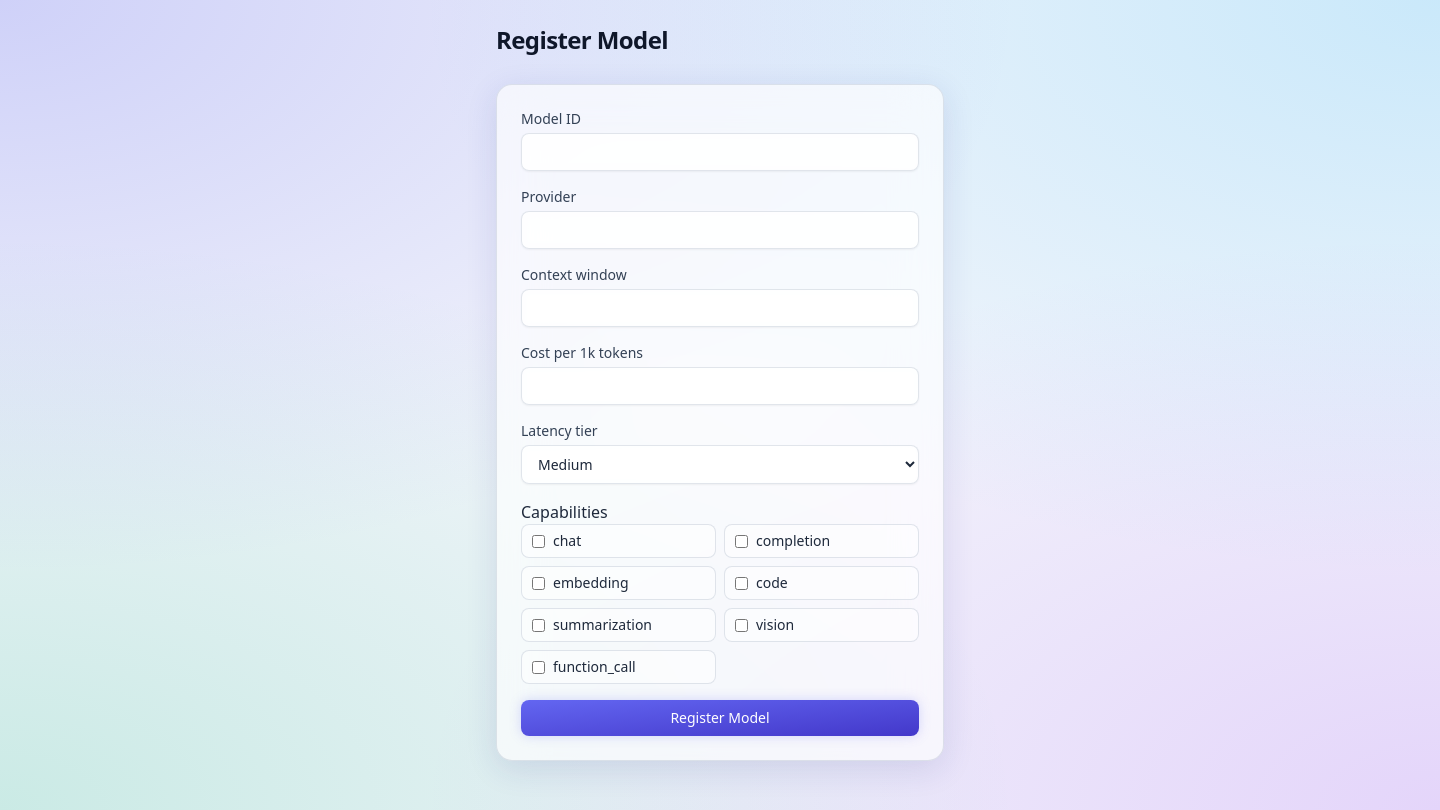
Test case: AddModelPage — AC-2 duplicate 409 error › shows 'already registered' message when server returns 409
Step 1. Type "gpt-4o" into the field labelled "Model ID" → x=720, y=152, box [521,133,919,171]
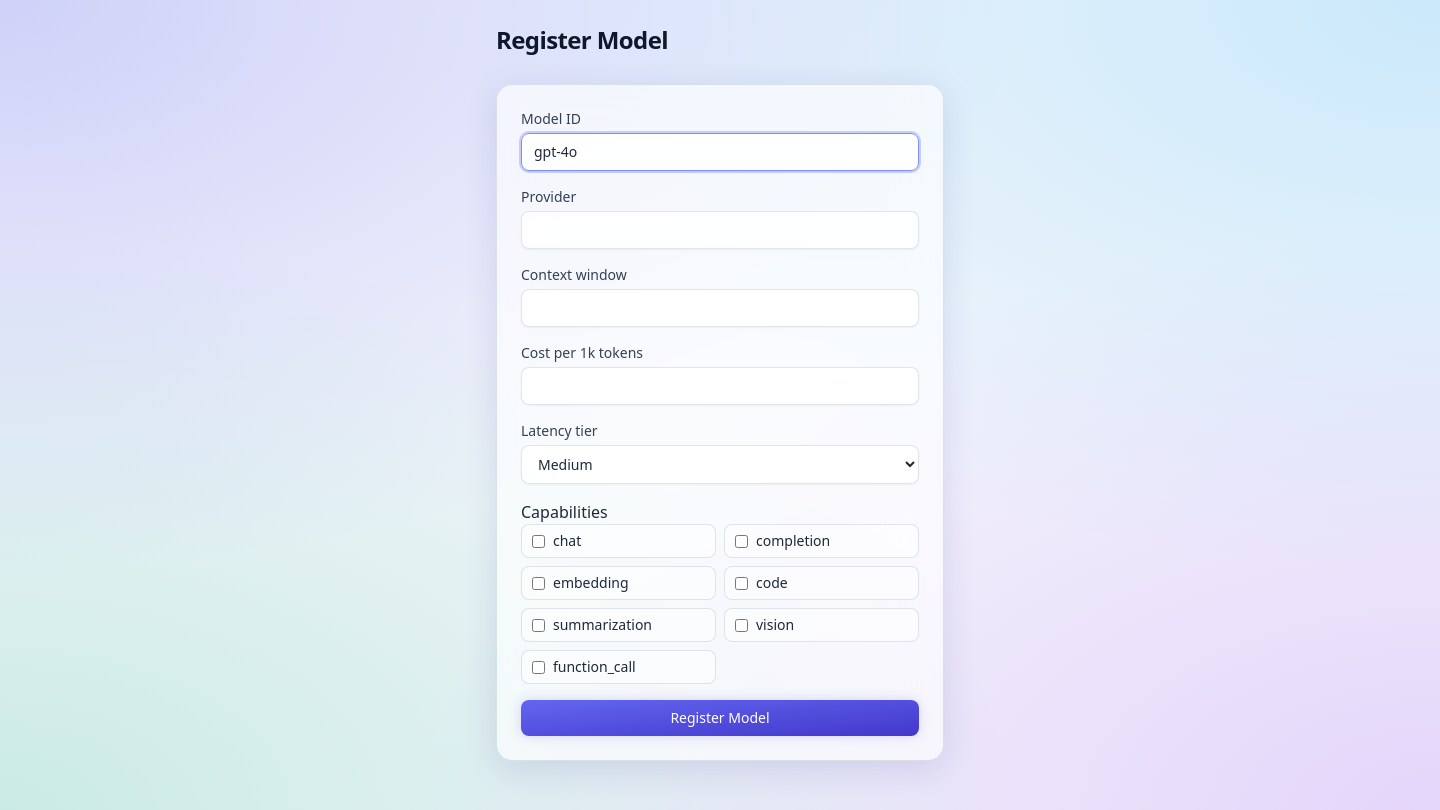
Step 2. Type "openai" into the field labelled "Provider" → x=720, y=230, box [521,211,919,249]
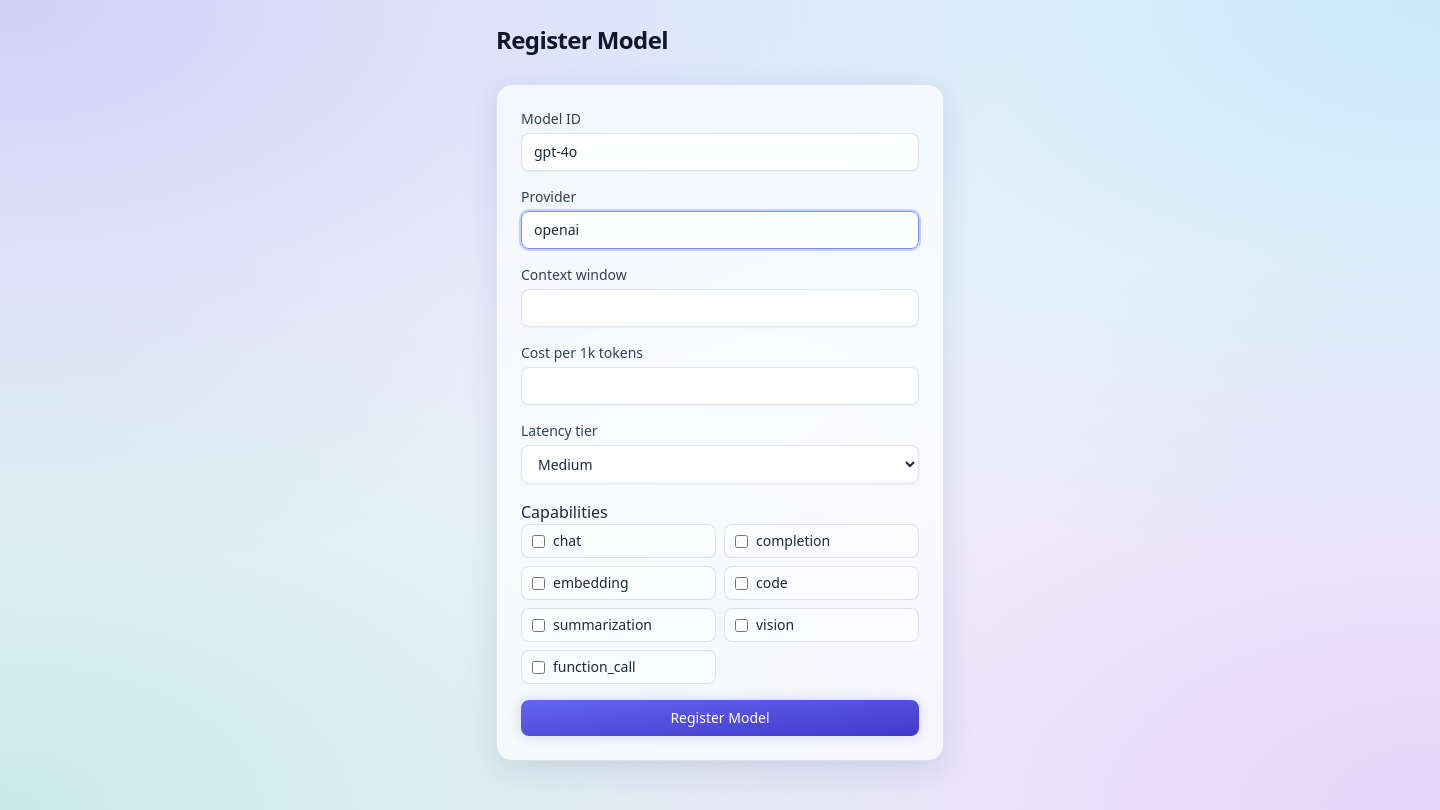
Step 3. Type "128000" into the number field labelled "Context window" → x=720, y=308, box [521,289,919,327]
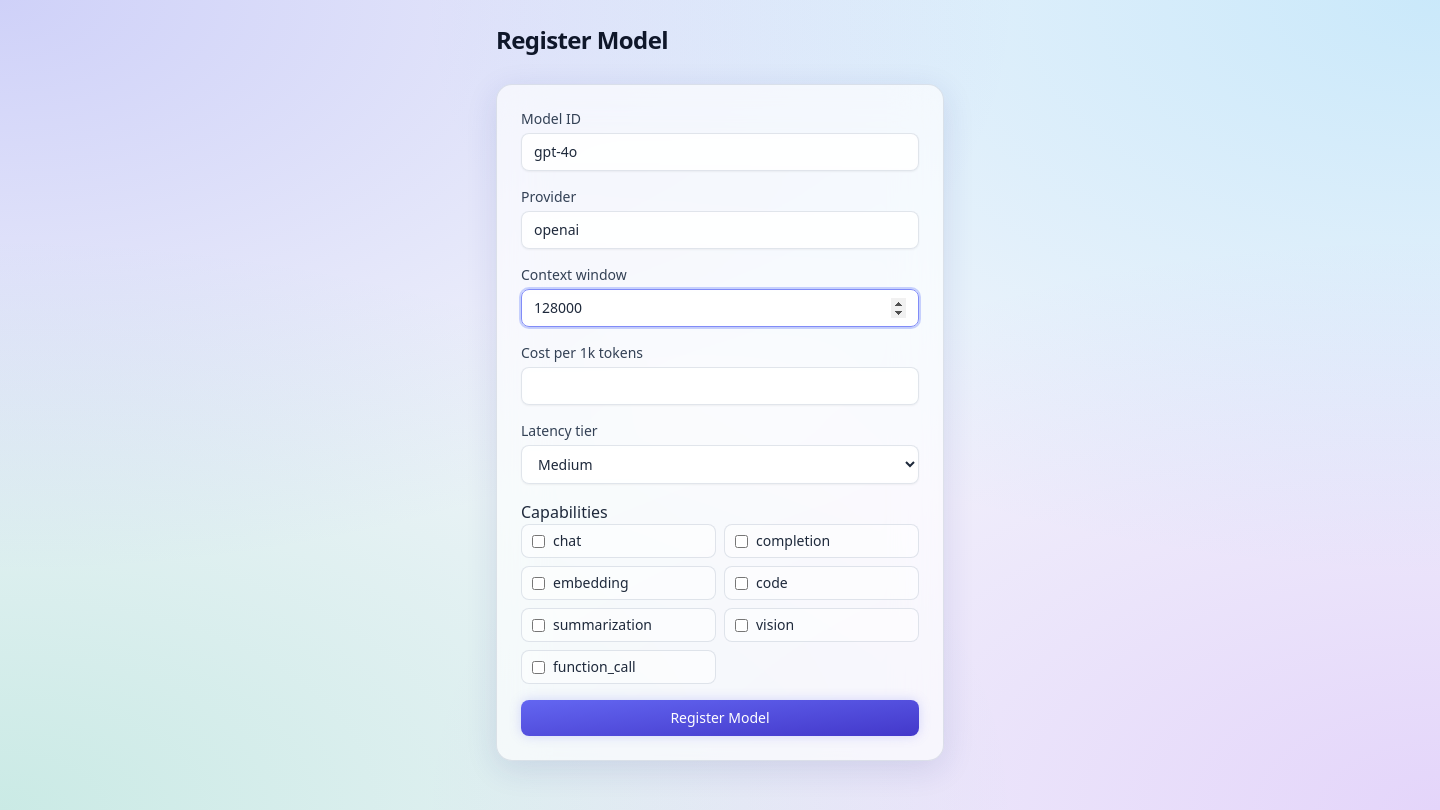
Step 4. Type "0.005" into the number field labelled "Cost per 1k tokens" → x=720, y=386, box [521,367,919,405]
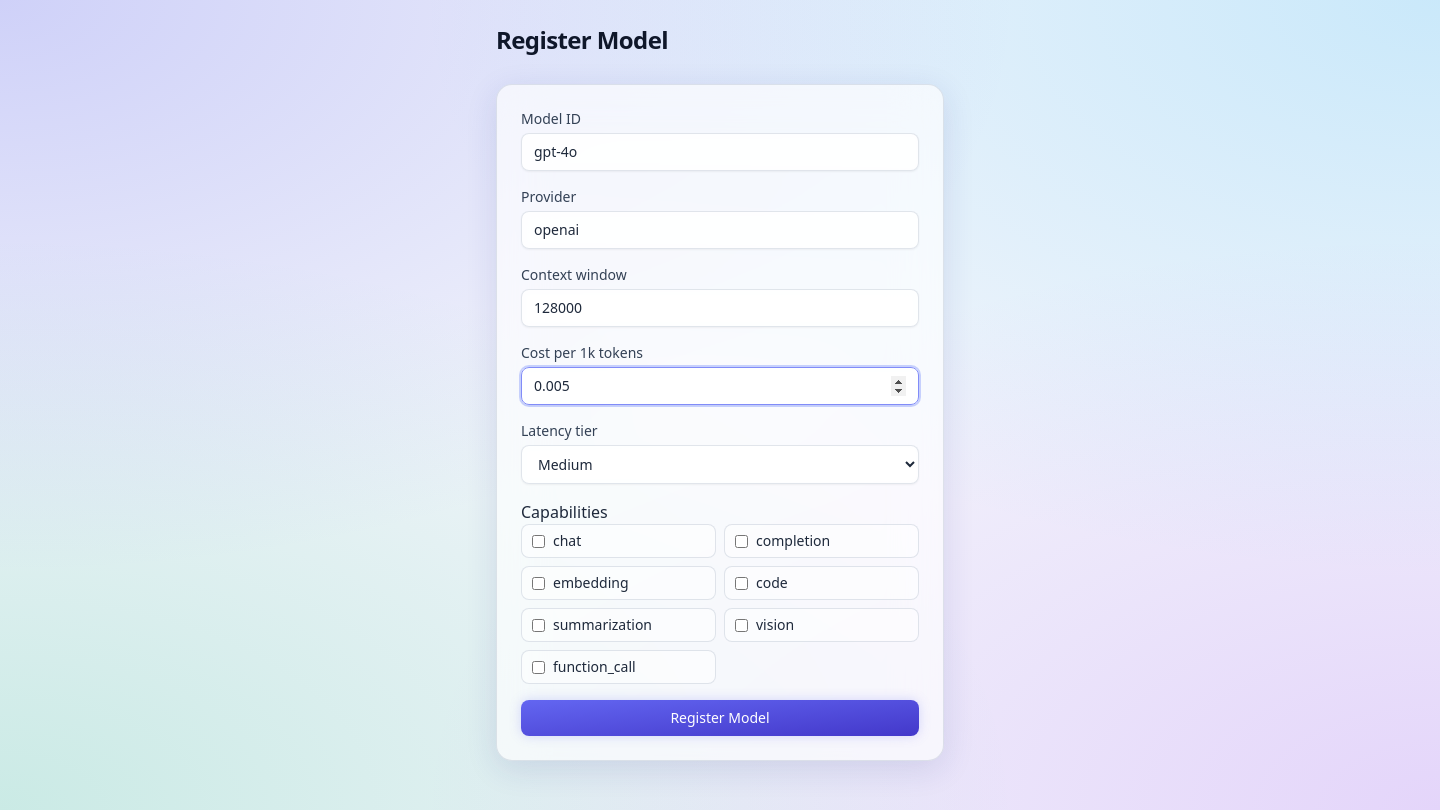
Step 5. Click the checkbox labelled "chat" → x=538, y=541, box [532,534,545,548]
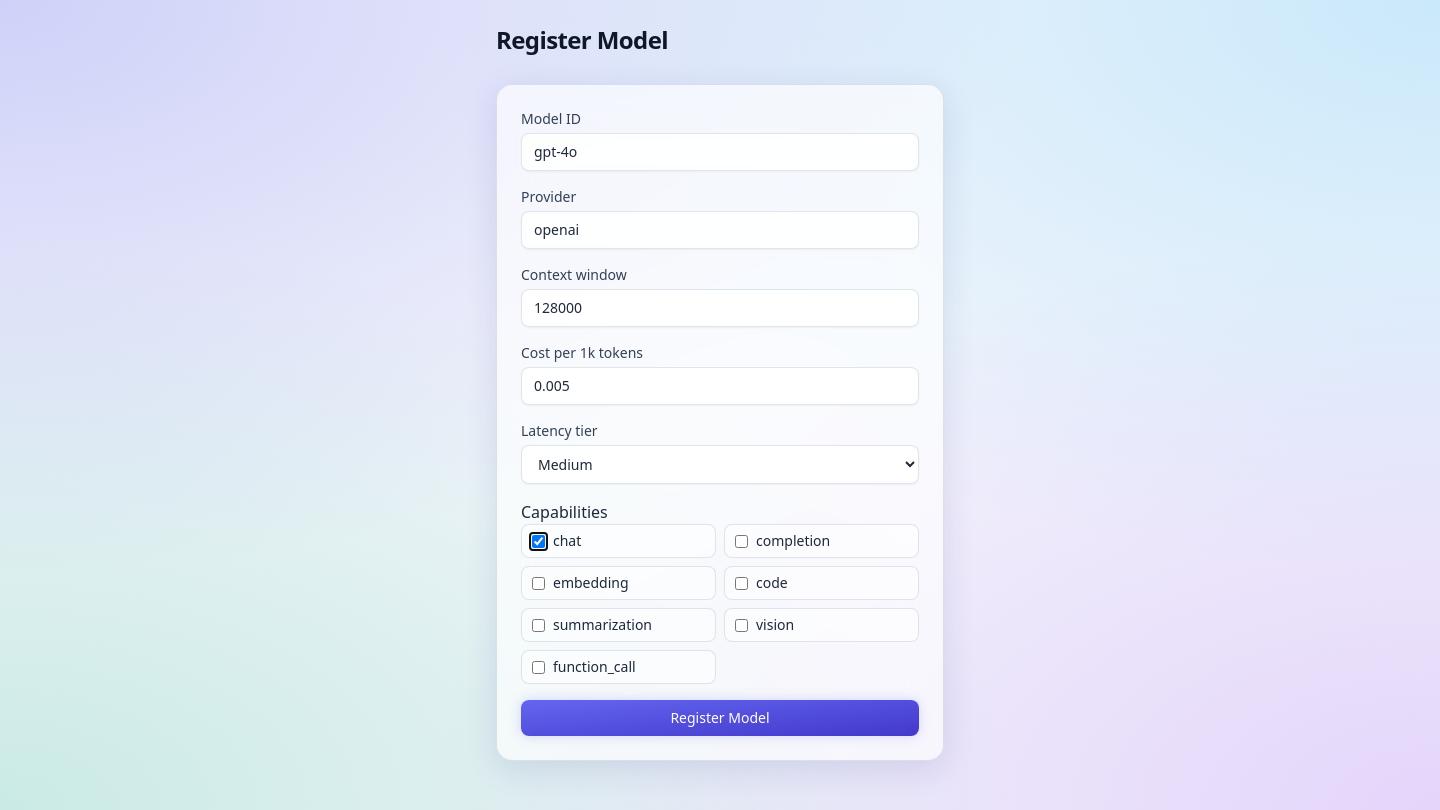
Step 6. Submit the form named "Register Model", box [521,109,919,736]
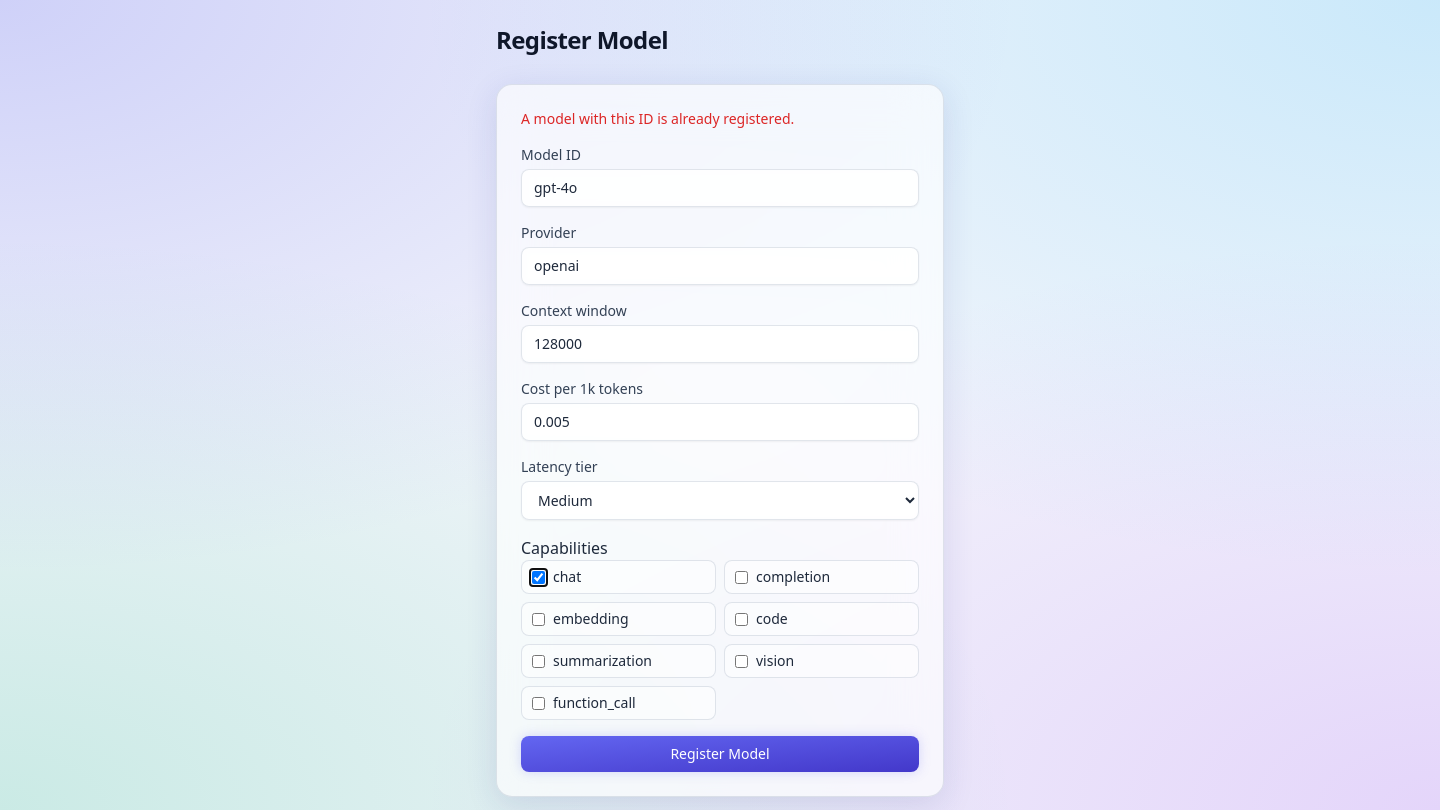
Result: the text "A model with this ID is already registered." is shown at [521,109,794,128]
